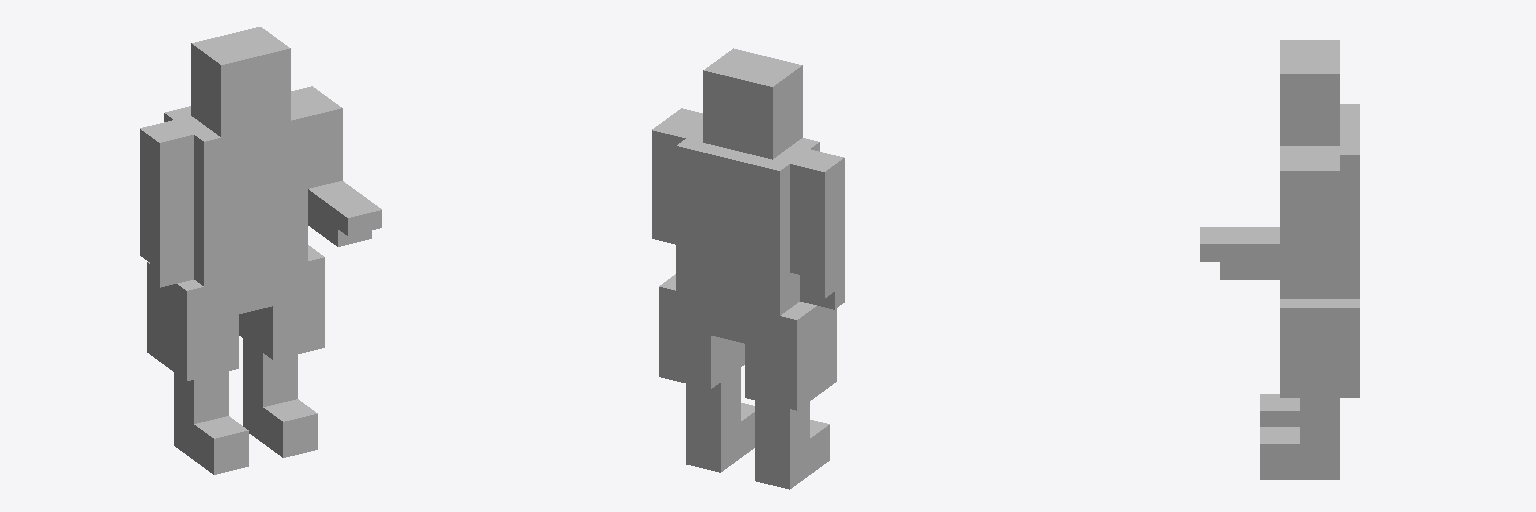
The model's file is bounce.obj.
3 renders of one model, left to right at view 1: azimuth 30°, elevation 25°; view 2: azimuth 150°, elevation 25°; view 3: azimuth 270°, elevation 25°, orthographic.
Parts seen in each view (by area): view 1: Basketballer_Bounce; view 2: Basketballer_Bounce; view 3: Basketballer_Bounce.
Boxes of the visible parts, x1,y1,x2,y2 form: Basketballer_Bounce: [140, 27, 381, 474]; Basketballer_Bounce: [652, 48, 844, 489]; Basketballer_Bounce: [1200, 40, 1359, 479].
Size of the model in its own units: 0.5 by 1.1 by 0.4.